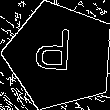P_S: (39, 30, 81, 82)
